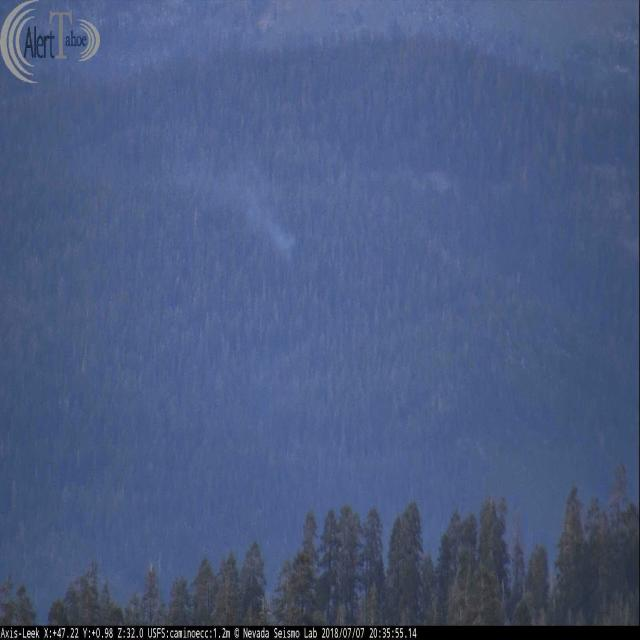smoke: (249, 194, 297, 262)
